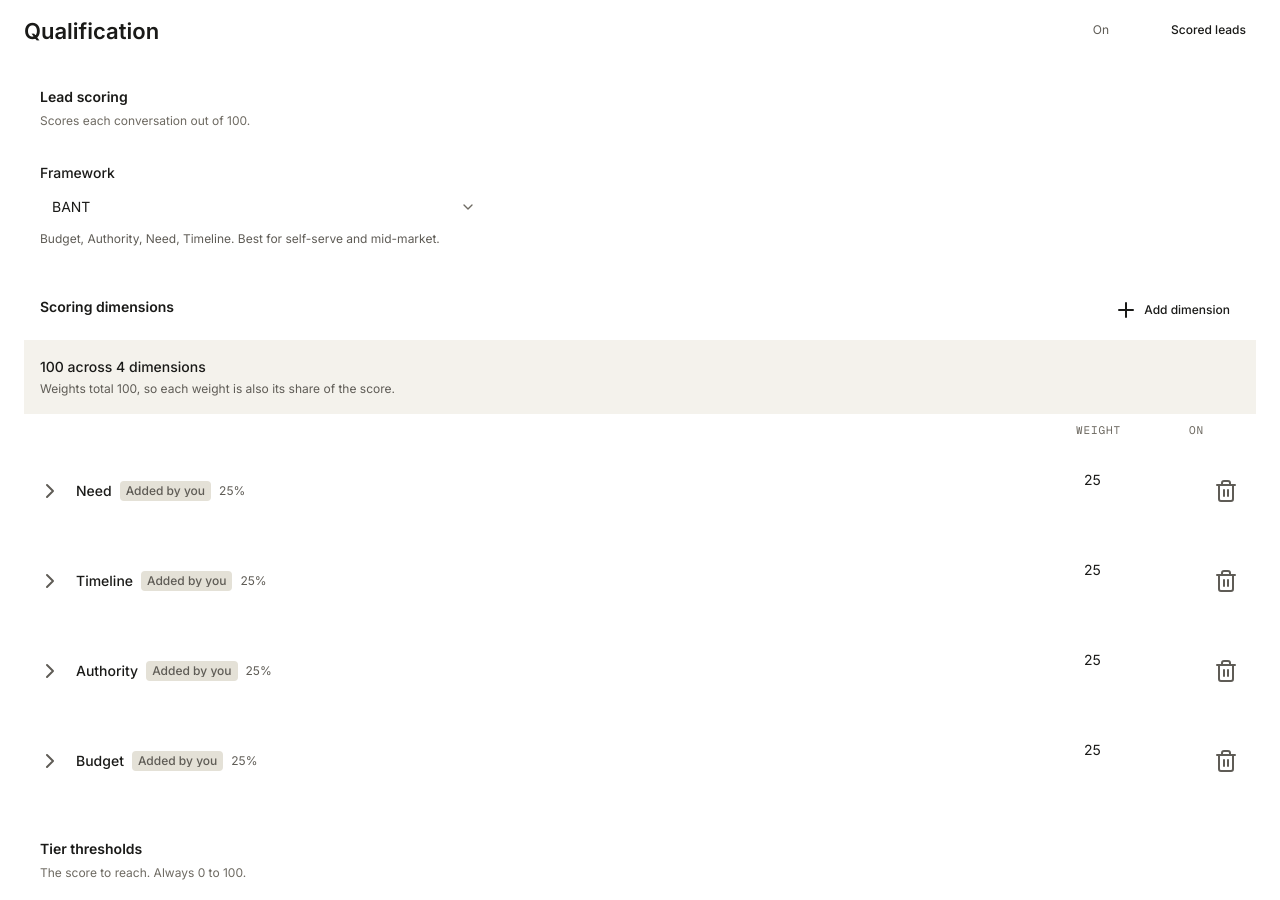
Scenario: validation refuses a set that cannot score › rebalances to exactly 100 on request
The image size is (1280, 900).
Expected: the heading "Scoring dimensions" is shown, [40, 296, 174, 318]
Replace the text in the 1st number field named "Weight for Need" with "5" at (1112, 479), box [1072, 462, 1152, 496]
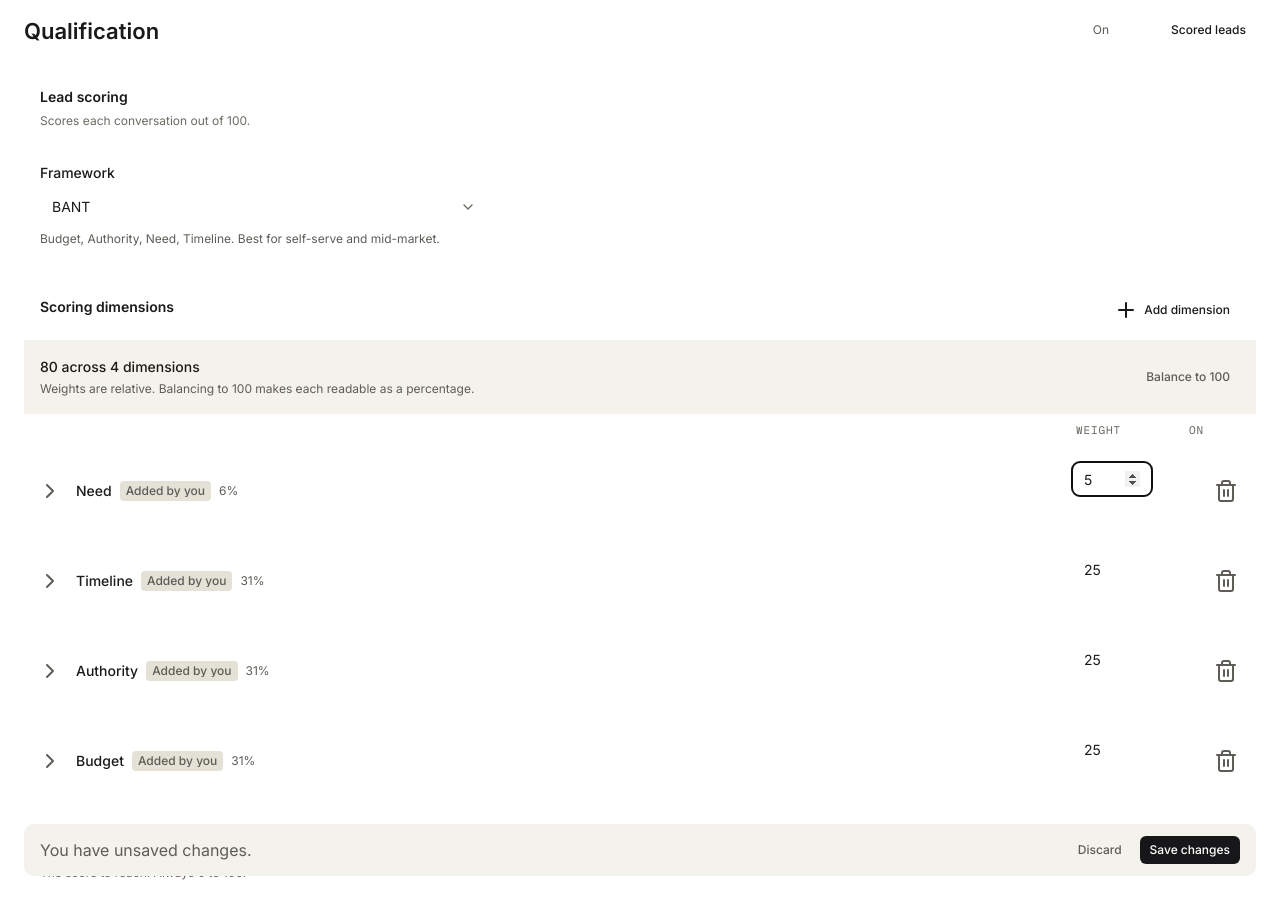
Click the button "Balance to 100" at (1188, 377), box [1136, 363, 1240, 391]
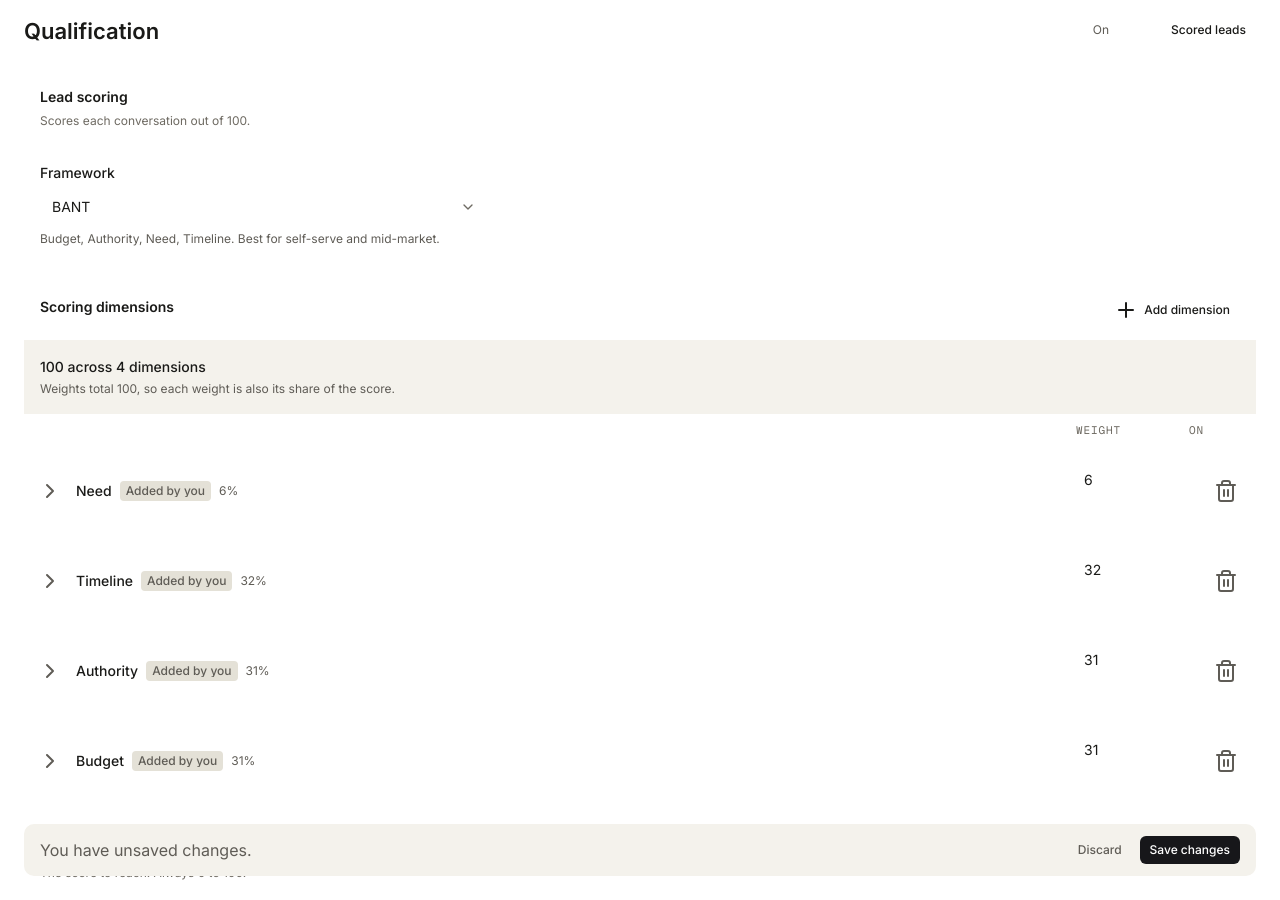
Now the text "100" is shown, box [40, 358, 64, 375]
